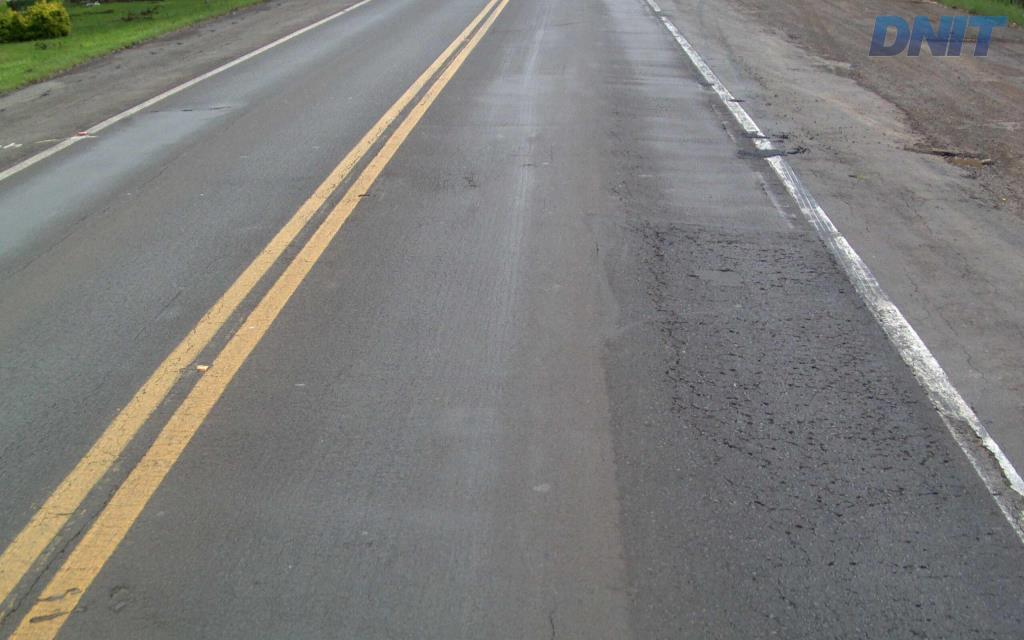crack: (932, 571, 1023, 639), (854, 378, 919, 461), (903, 464, 987, 518), (867, 590, 939, 639), (662, 344, 712, 400), (770, 517, 813, 580), (716, 562, 774, 606), (809, 476, 850, 526), (764, 574, 815, 606), (918, 438, 956, 480), (669, 390, 716, 421), (741, 486, 779, 518), (859, 484, 909, 504)
